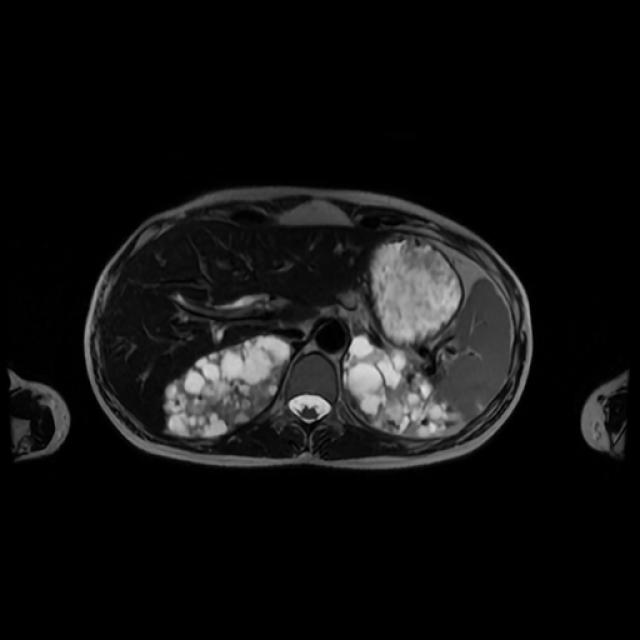sag: (167, 336, 290, 435)
sol: (348, 336, 447, 438)
